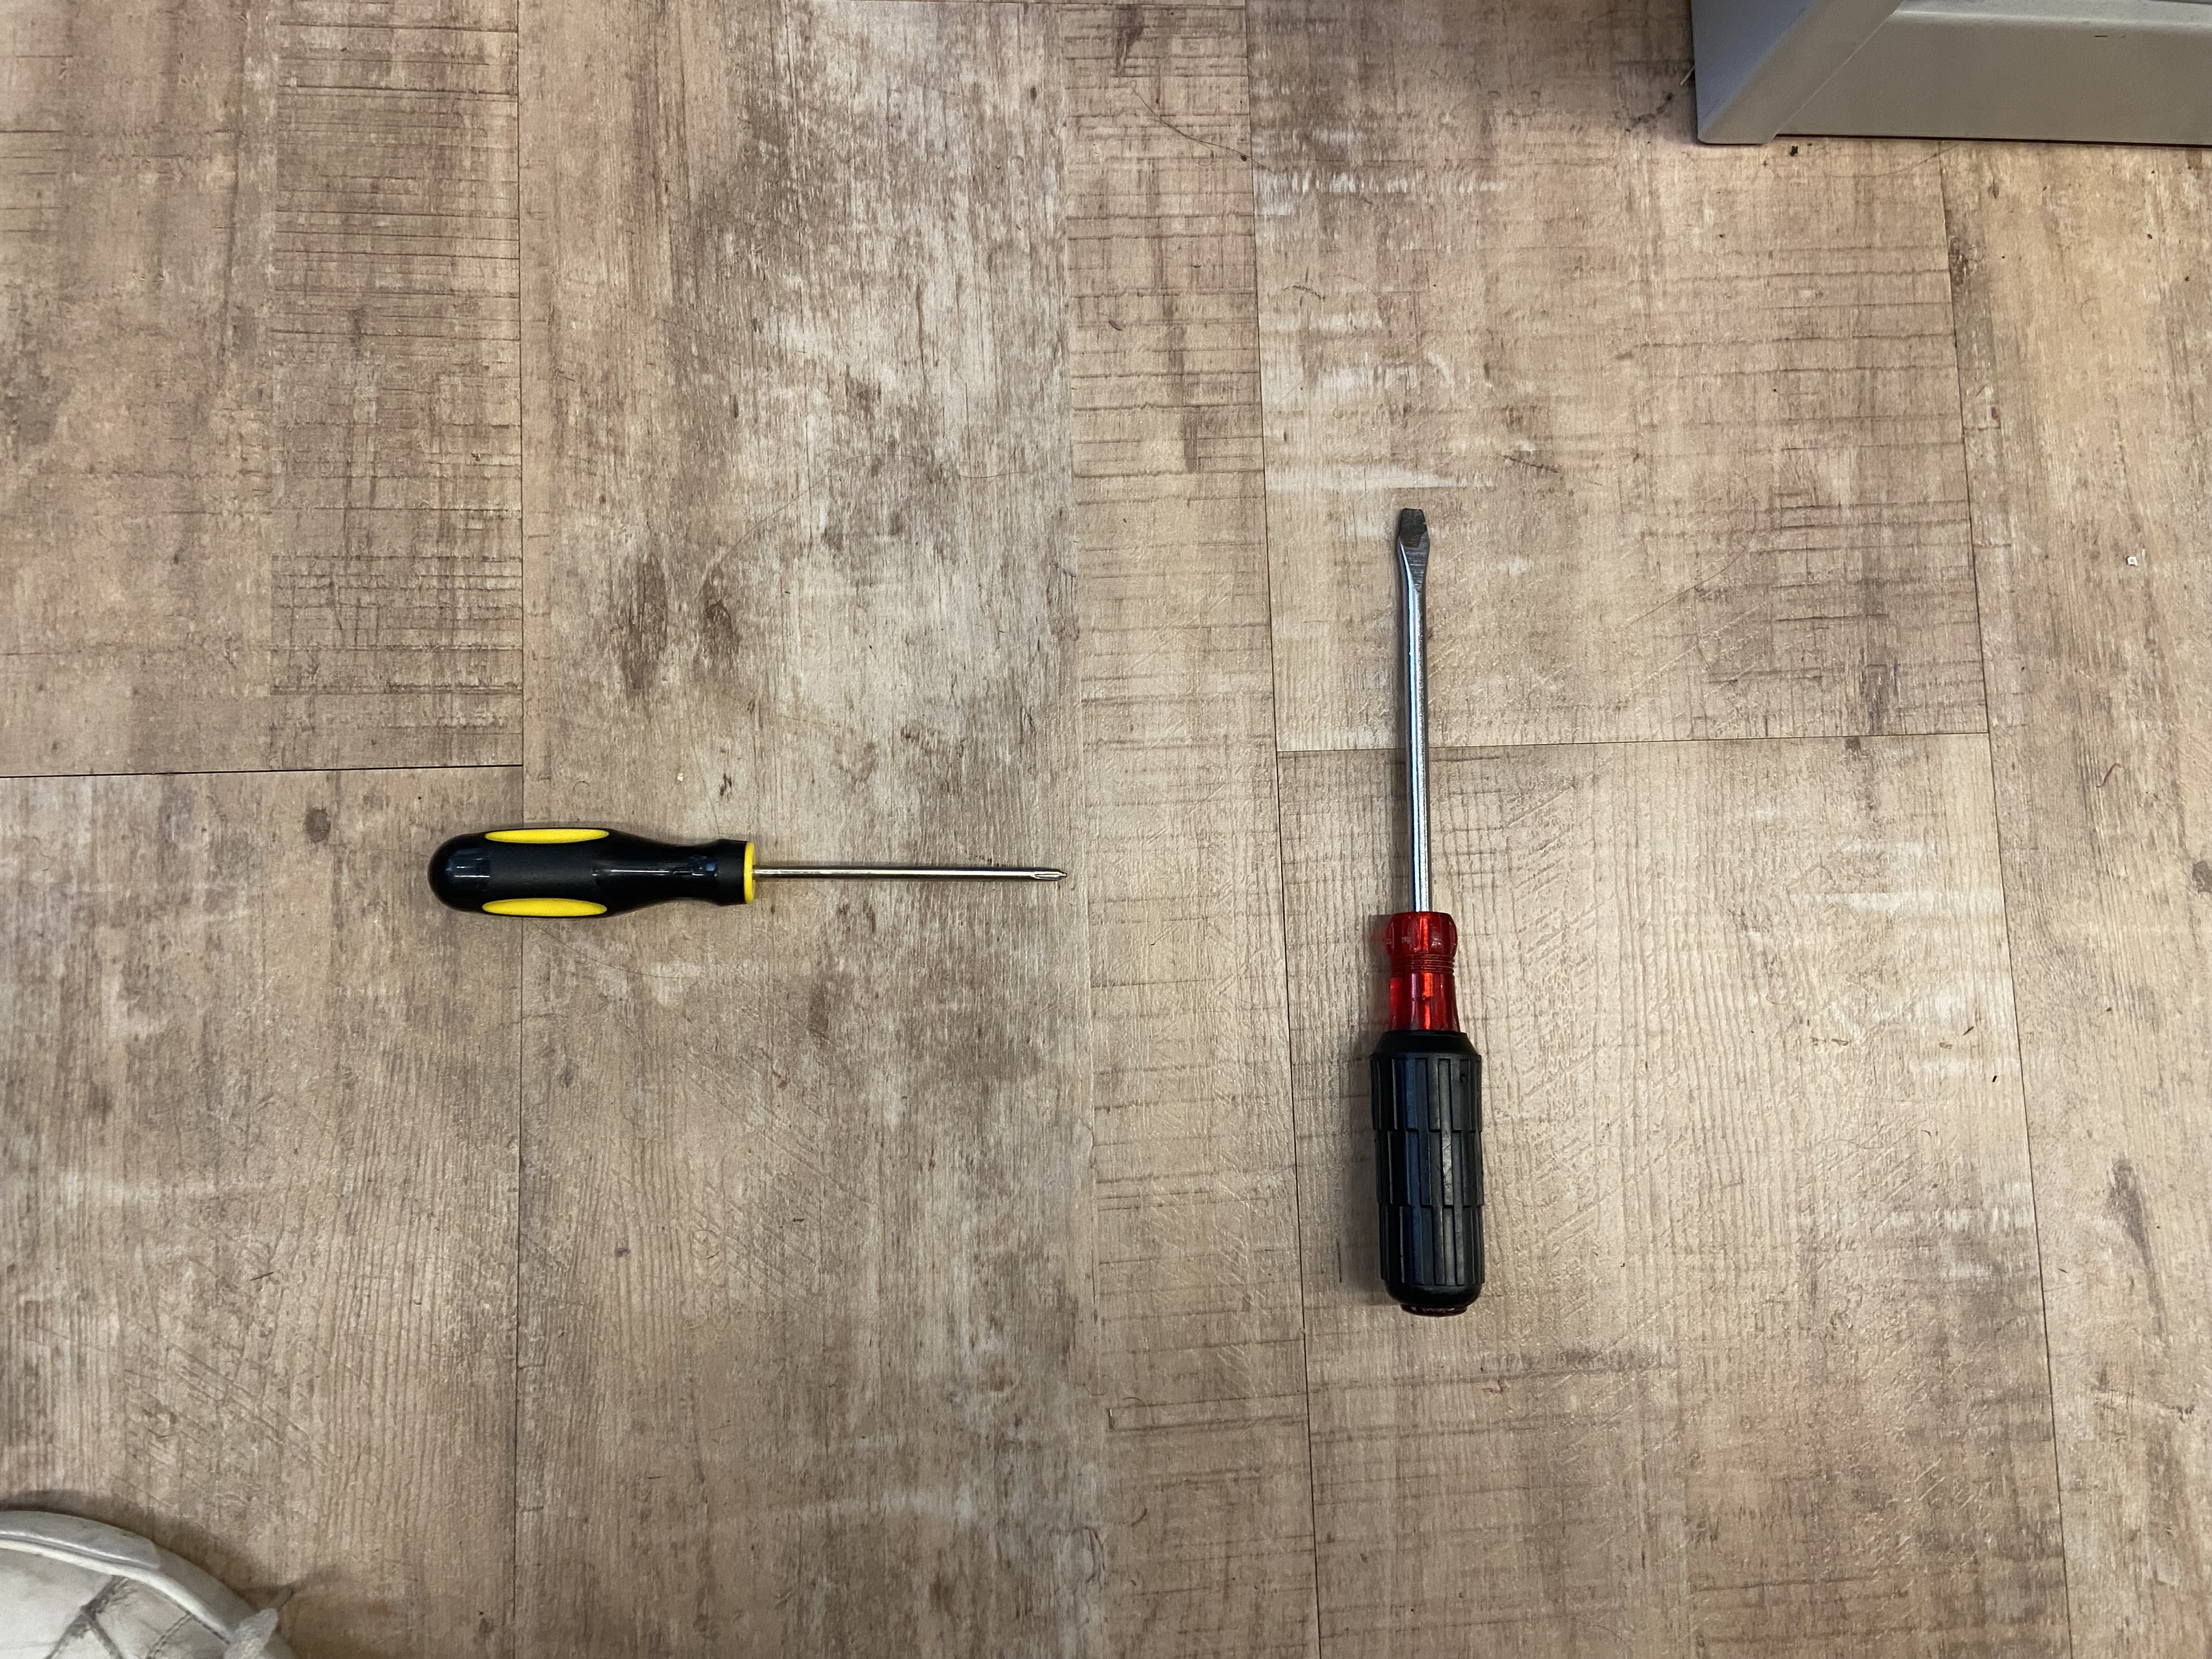screwdriver: (1366, 507, 1489, 1323), (416, 816, 1064, 920)
